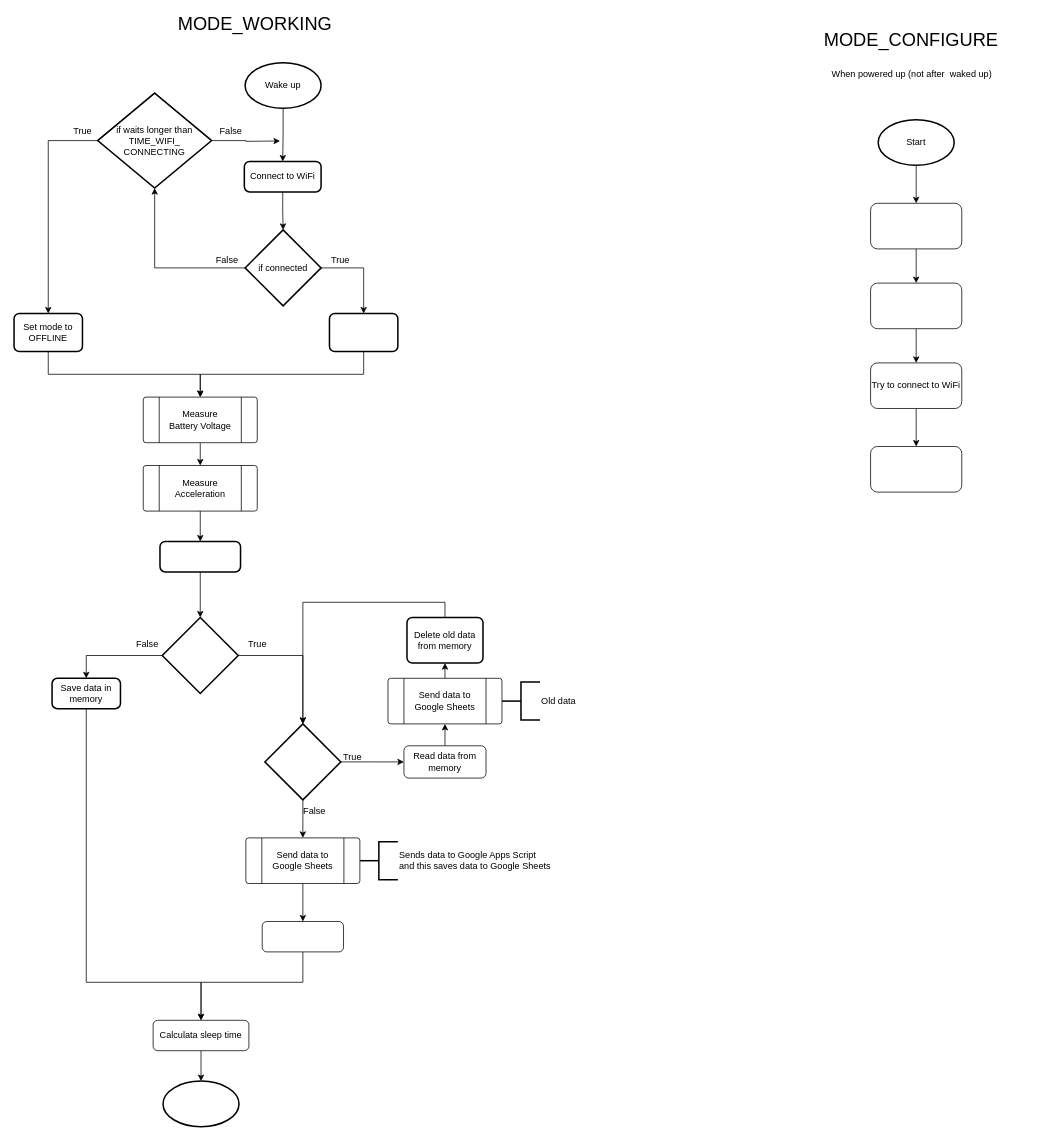
This 1041x1140 diagram has some shape labels left out. The shapes that lost their labels are listed below. From the top down, each one's centre as x and y in pixels, then its label:
At point 916,226: "Start AP".
At point 916,305: "Read WiFi data from EEPROM".
At point 363,332: "Set mode to ONLINE".
At point 916,469: "Host configure website".
At point 200,556: "CalculateBLG".
At point 200,655: "if mode is ONLINE".
At point 302,761: "if has stored old data".
At point 302,936: "Read real time".
At point 200,1103: "Go to sleep".
